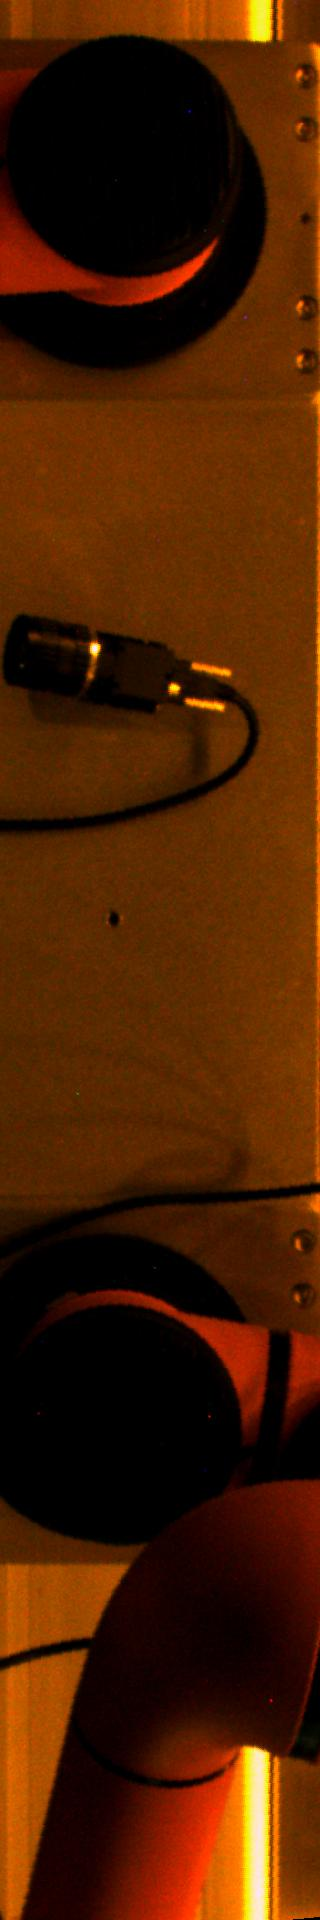keyPoint_2: (98, 904, 128, 934)
